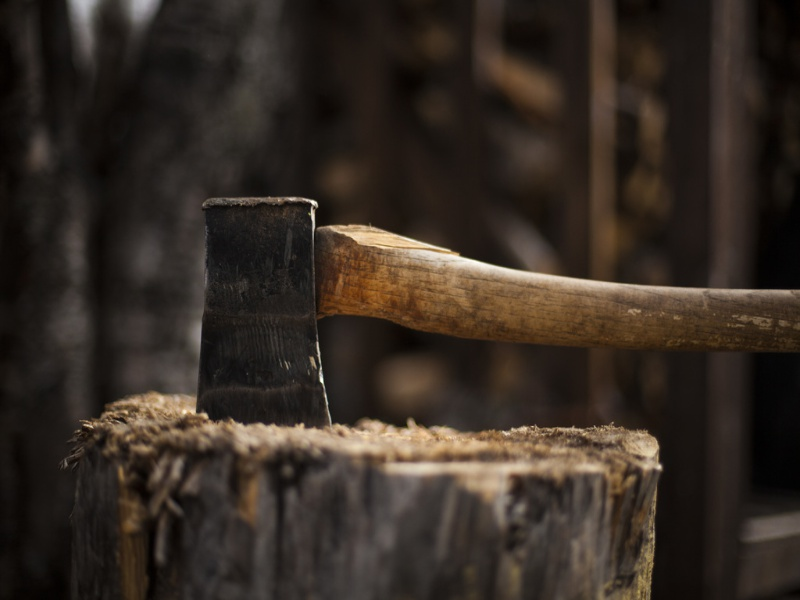axe: (184, 186, 541, 441)
